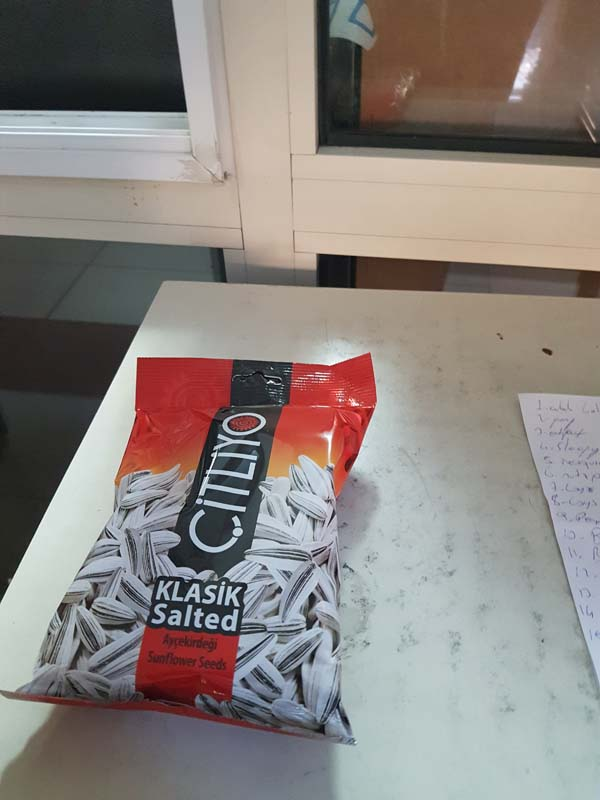citliyorklasik: (4, 352, 378, 757)
